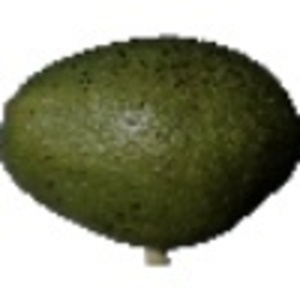abacate: (3, 33, 297, 248)
